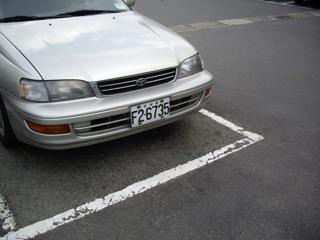plate: (127, 94, 171, 127)
